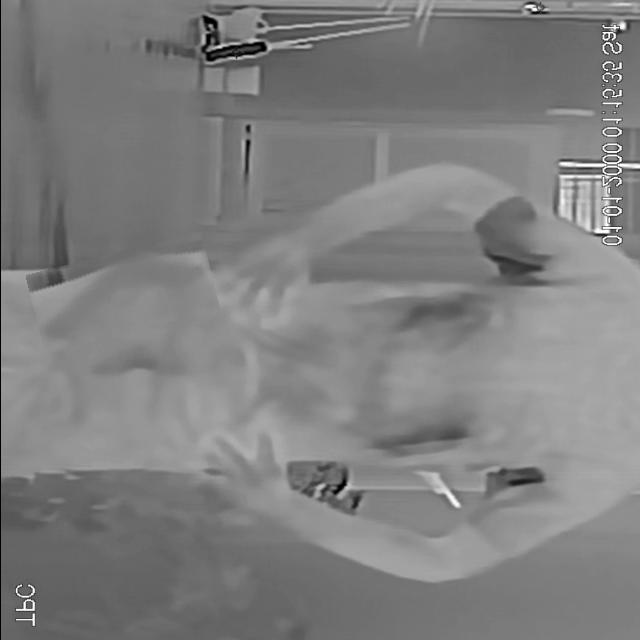Weapon: (28, 242, 216, 343)
